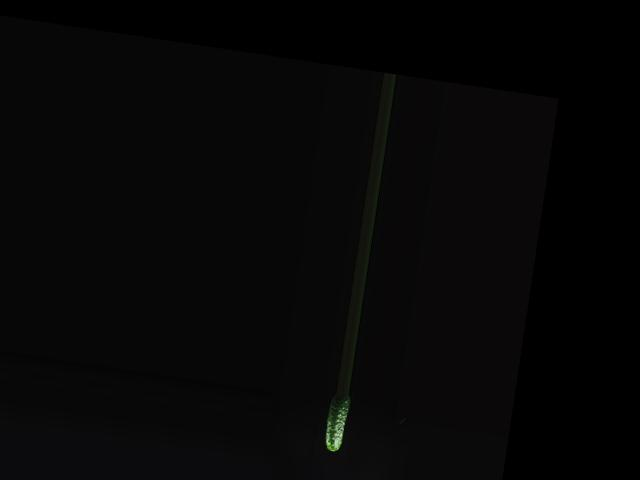cucumber: (323, 391, 352, 453)
